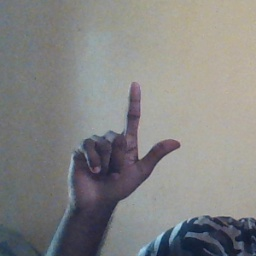L: (62, 80, 182, 213)
